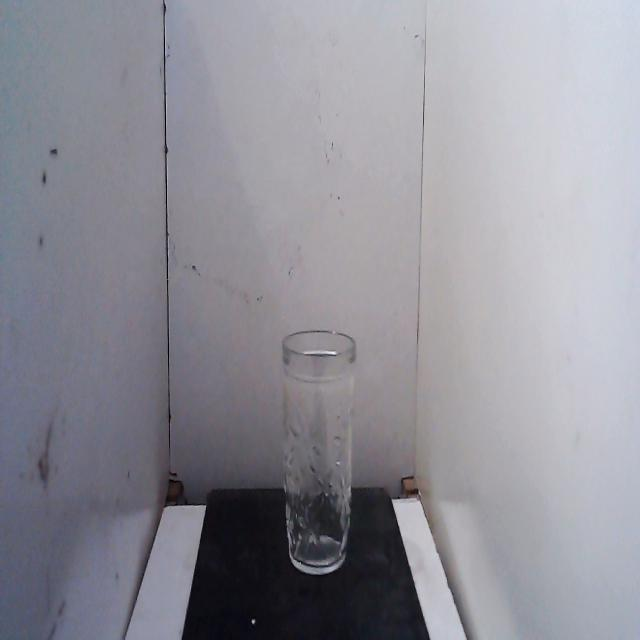glass: (268, 308, 368, 590)
